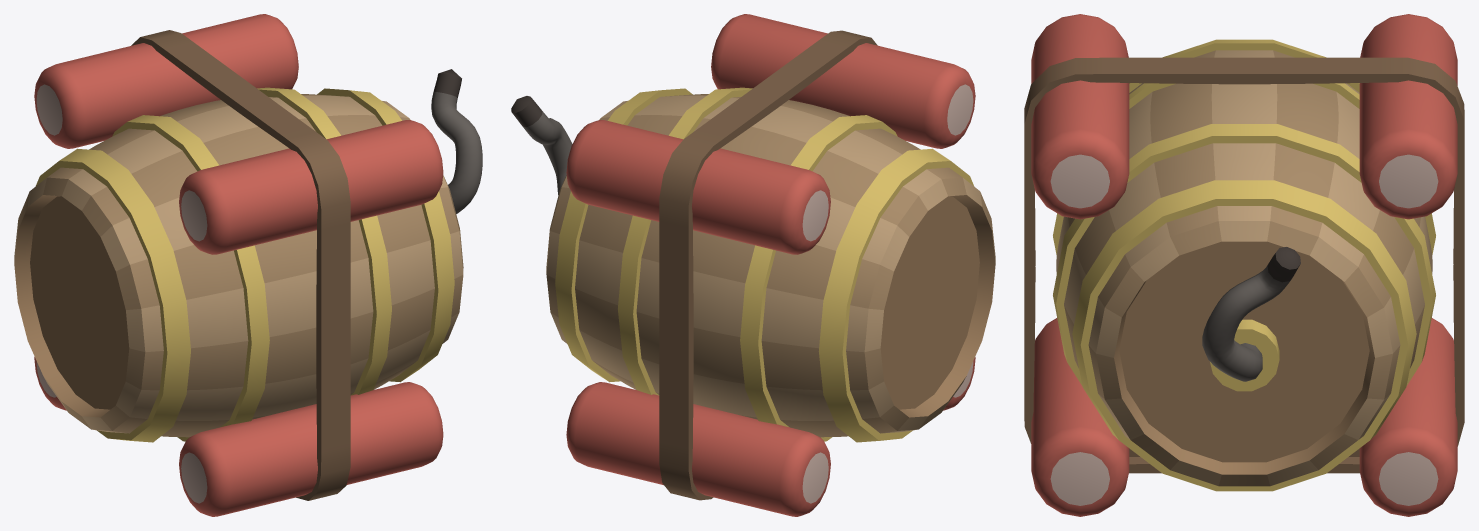
Rendered from dynamite_c_evo.glb.
The picture shows the model from 3 angles, left to right: view 1: azimuth 30°, elevation 25°; view 2: azimuth 150°, elevation 25°; view 3: azimuth 270°, elevation 25°; orthographic projection. The views are drawn at different scales.
Parts seen in each view (by area): view 1: Boomtown; view 2: Boomtown; view 3: Boomtown.
Part boxes in pixels (<box>): Boomtown: <box>14,14,482,516</box>; Boomtown: <box>511,14,995,516</box>; Boomtown: <box>1024,14,1464,516</box>.
Size of the model in its own units: 0.6087 by 0.5028 by 0.5028.
